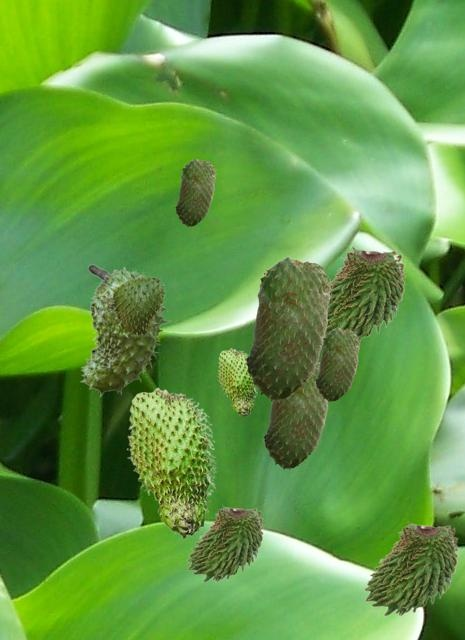guyabano: (126, 387, 216, 538), (245, 256, 331, 401), (79, 264, 170, 396), (363, 520, 458, 615), (327, 245, 405, 342), (263, 361, 328, 469), (186, 504, 263, 581), (315, 327, 359, 401), (112, 275, 165, 336), (217, 348, 257, 416), (175, 158, 215, 226)
